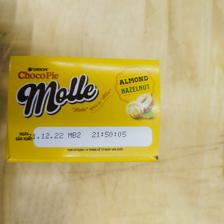Molle: (3, 54, 167, 165)
